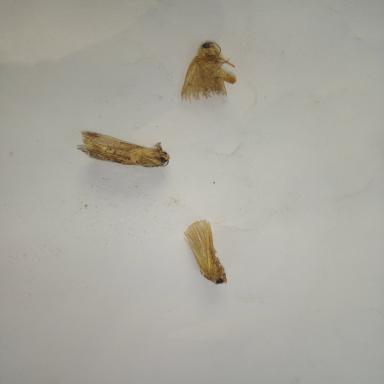abw: (78, 123, 177, 174), (176, 37, 242, 102), (177, 217, 234, 288)
